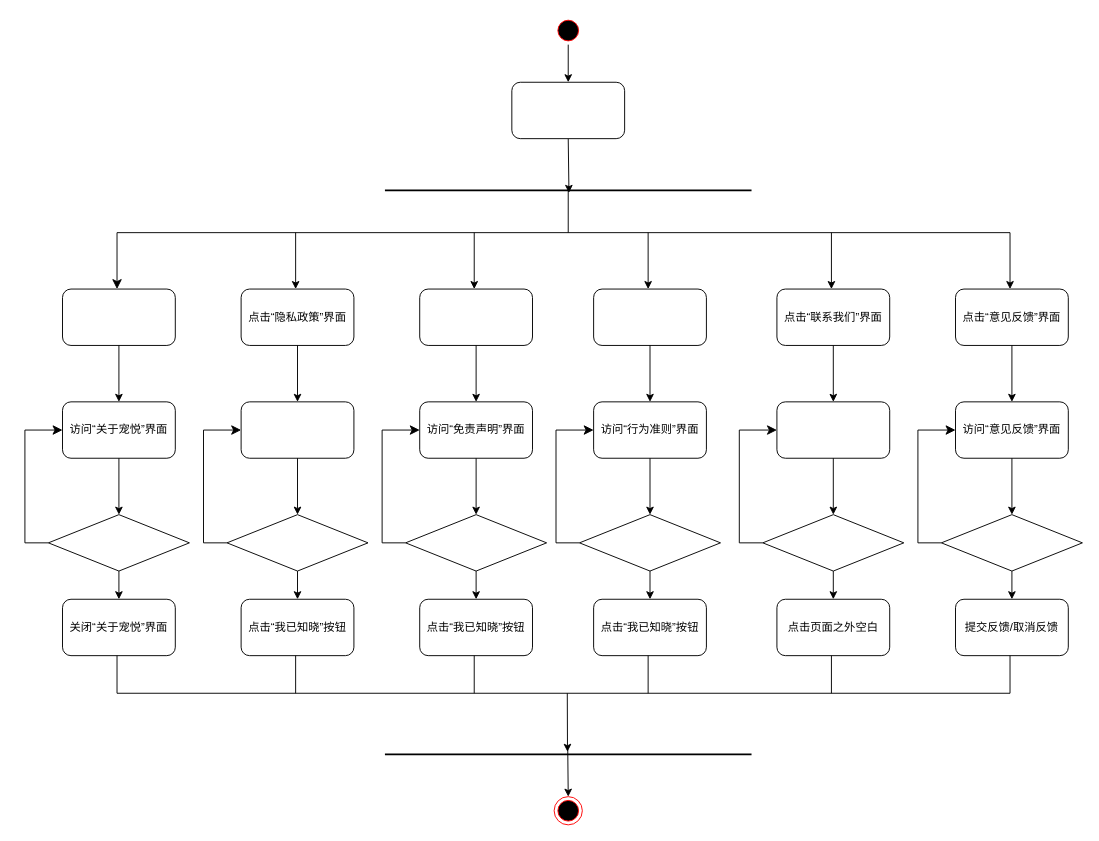
This 1099x841 diagram has some shape labels left out. Here are the shapes that lost their labels. From the top down, the centre of each, then its label:
(568,110): 浏览底部导航栏
(118,316): 点击“关于宠悦”界面
(476,316): 点击“免责声明”界面
(649,316): 点击“行为准则”界面
(297,429): 访问“隐私政策”界面
(833,429): 访问“联系我们”界面
